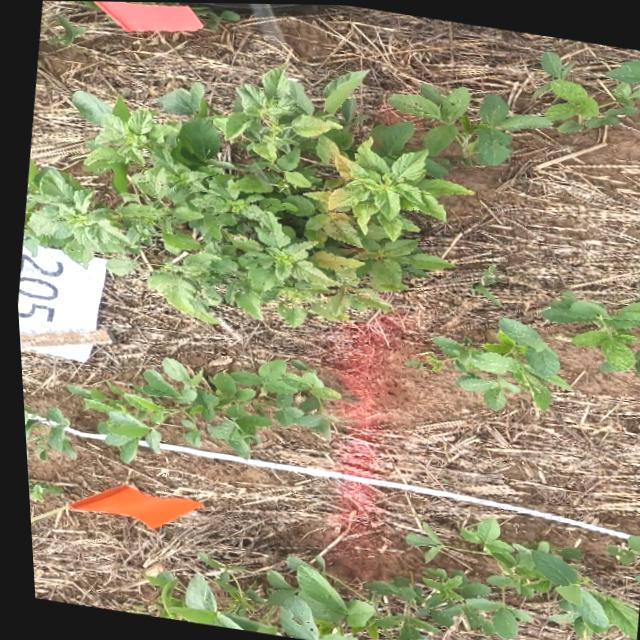caruru_weed: (20, 64, 467, 325), (22, 476, 54, 501)
soy_plant: (137, 517, 631, 640), (371, 50, 640, 216), (63, 355, 331, 462), (408, 317, 563, 408), (542, 294, 640, 377), (21, 166, 97, 227), (19, 408, 66, 457), (46, 16, 83, 45), (197, 6, 238, 25)
